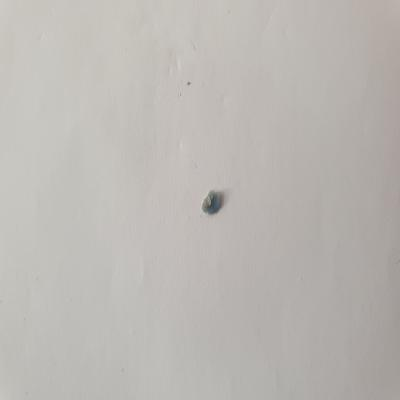plastic: (197, 187, 230, 219)
